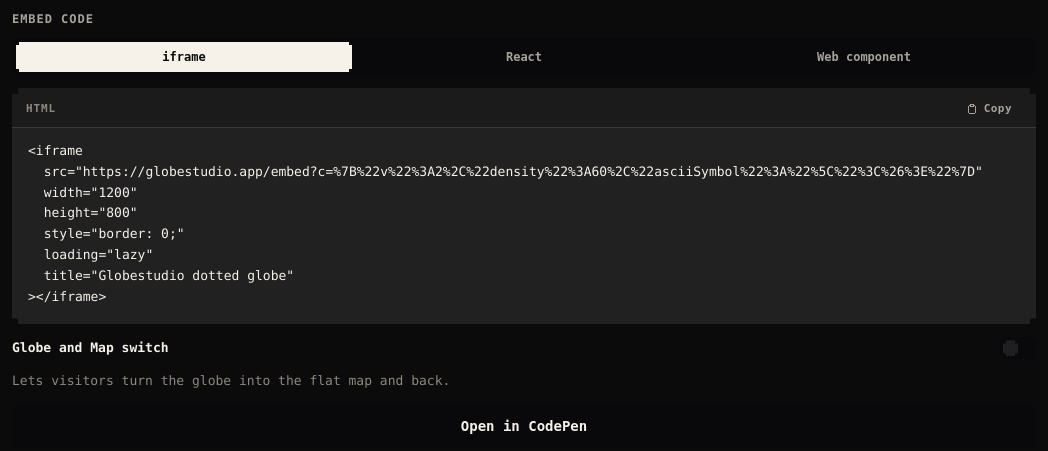
Scenario: EmbedCode › starts each option with a fresh Copy button
Click the button with aria-label "Copy code to clipboard": (989, 108) [956,98,1022,119]
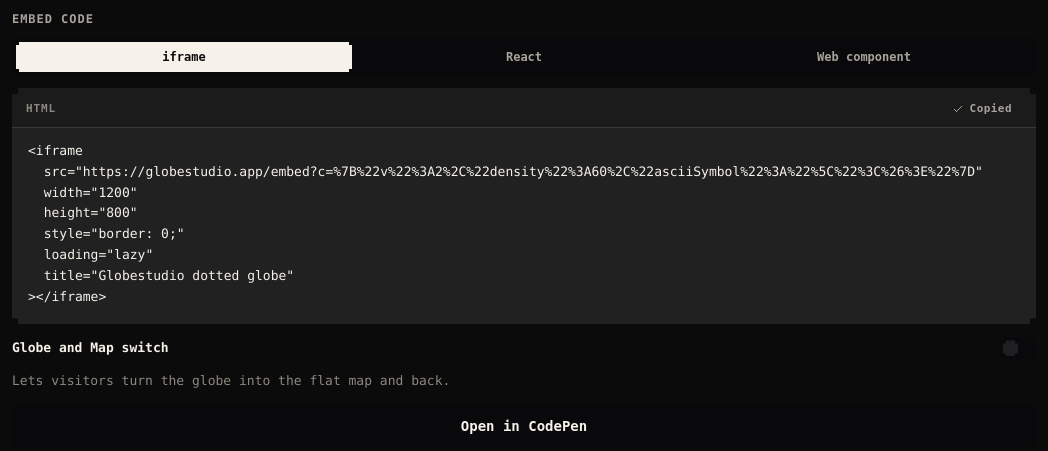
Check: the button "Copied" is shown, box [942,98,1022,119]
Click the tab "React": (524, 57) [356,42,692,72]
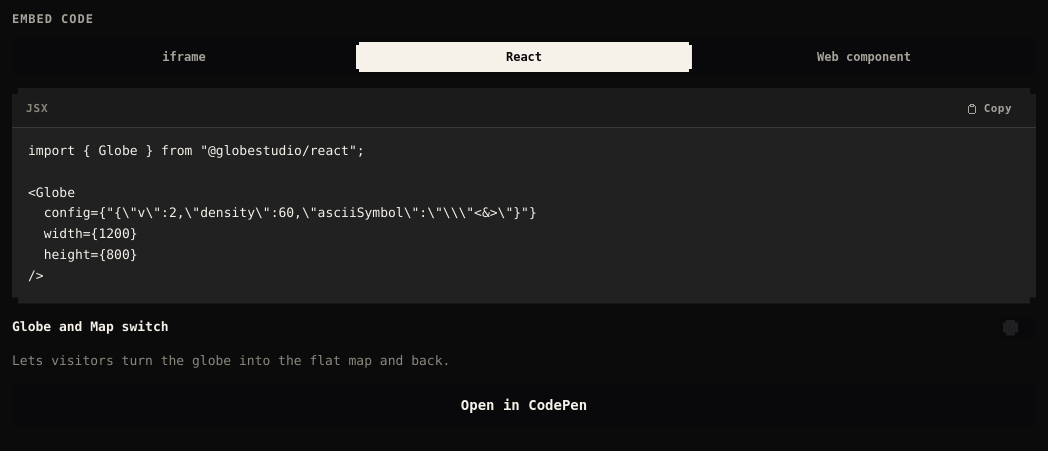
Check: the button "Copied" is gone
Check: the button with aria-label "Copy code to clipboard" is shown, box [956,98,1022,119]
